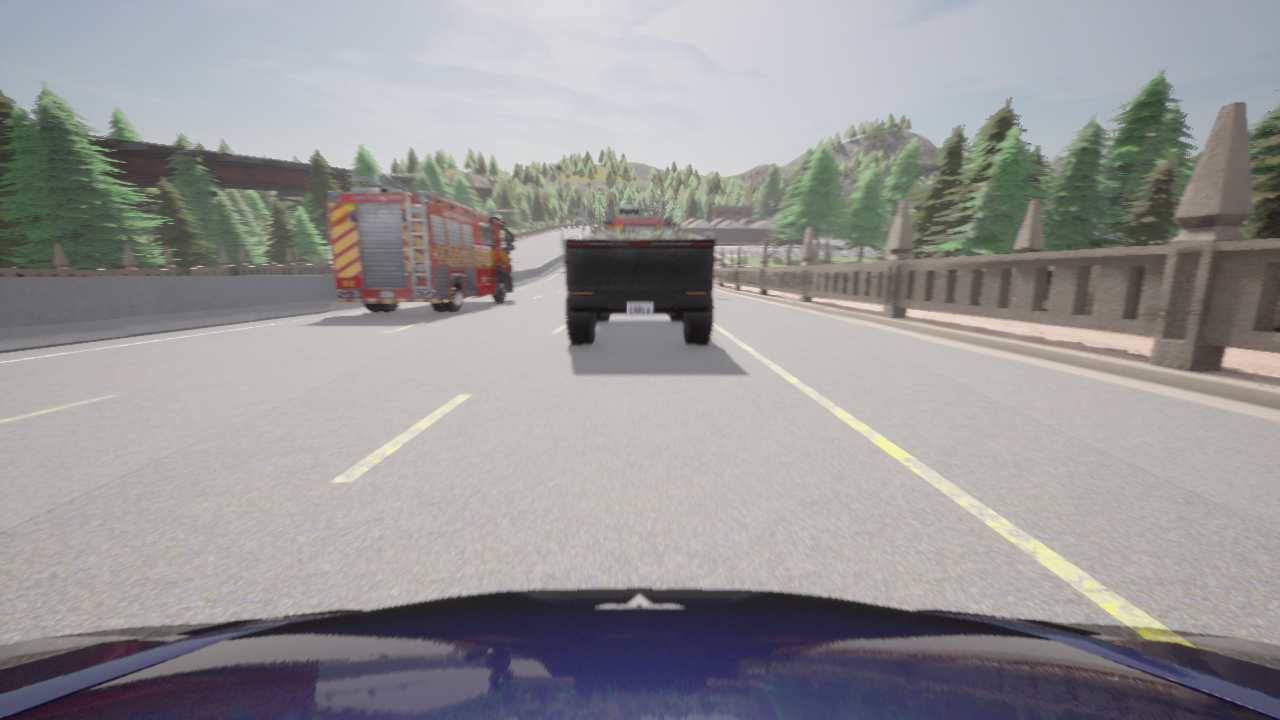cyclist: (0, 588, 1279, 719), (328, 175, 514, 311), (565, 230, 714, 344), (605, 206, 675, 229)
